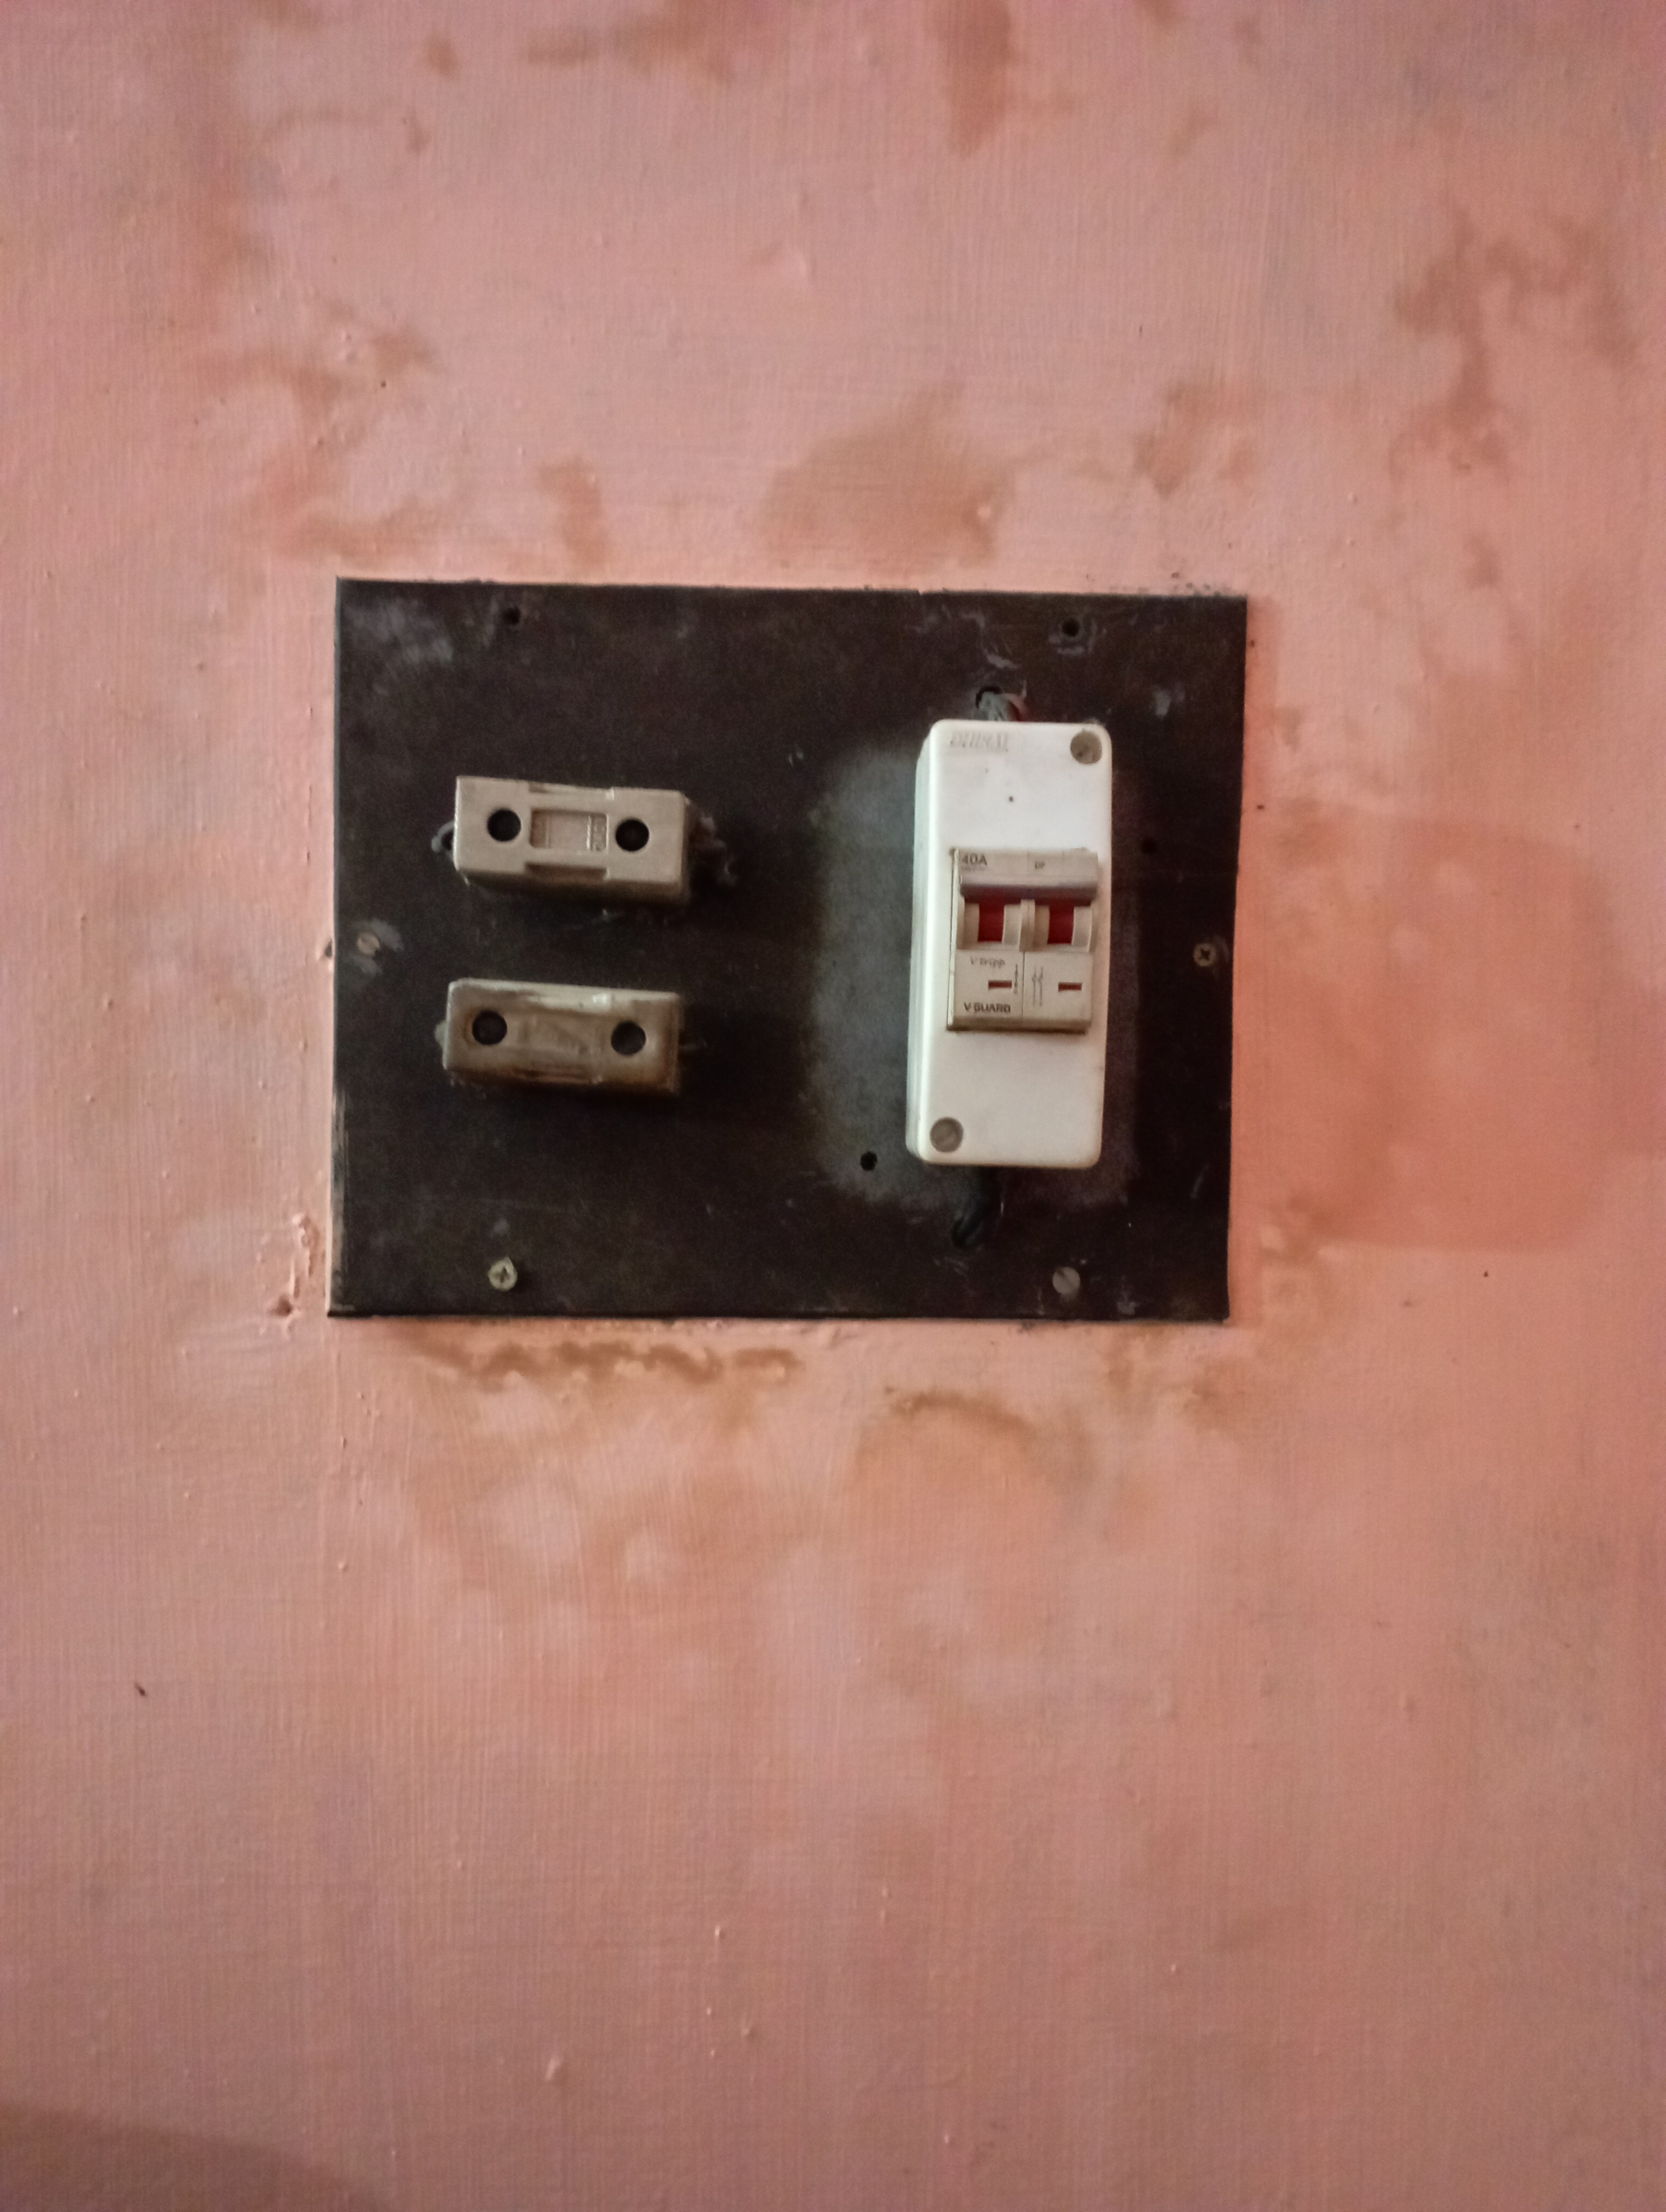ciruit_breaker: (886, 713, 1132, 1177)
fuse: (436, 766, 696, 916), (436, 965, 683, 1102)
